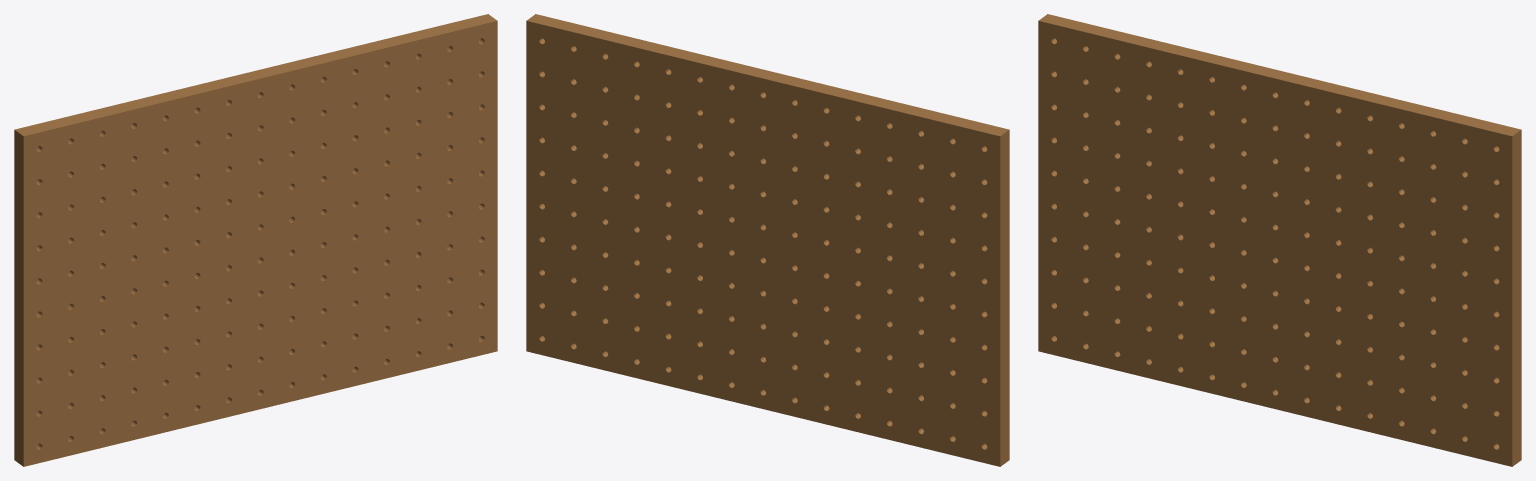
Rendered from pegboard.fbx.
The picture shows the model from 3 angles, left to right: view 1: azimuth 30°, elevation 25°; view 2: azimuth 150°, elevation 25°; view 3: azimuth 330°, elevation 25°; orthographic projection.
Visible parts, largest first — view 1: Cube.003; view 2: Cube.003; view 3: Cube.003.
Part boxes in pixels (<box>): Cube.003: <box>14,14,497,466</box>; Cube.003: <box>526,14,1009,466</box>; Cube.003: <box>1038,14,1521,466</box>.
Size of the model in its own units: 750 by 500 by 25.43.
